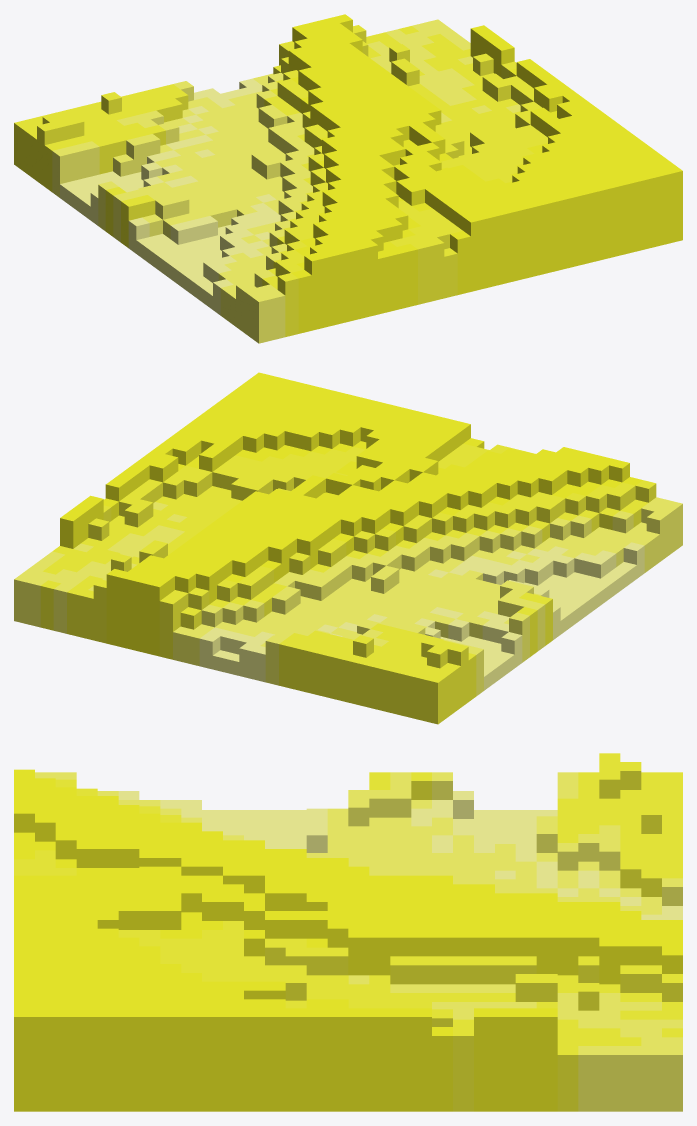
Rendered from Destert Map-15.obj.
The picture shows the model from 3 angles, top to bottom: view 1: azimuth 30°, elevation 25°; view 2: azimuth 150°, elevation 25°; view 3: azimuth 270°, elevation 25°; orthographic projection. The views are drawn at different scales.
Size of the model in its own units: 3.2 by 0.5 by 3.2.
Materials: 1 (1 with a texture image).
